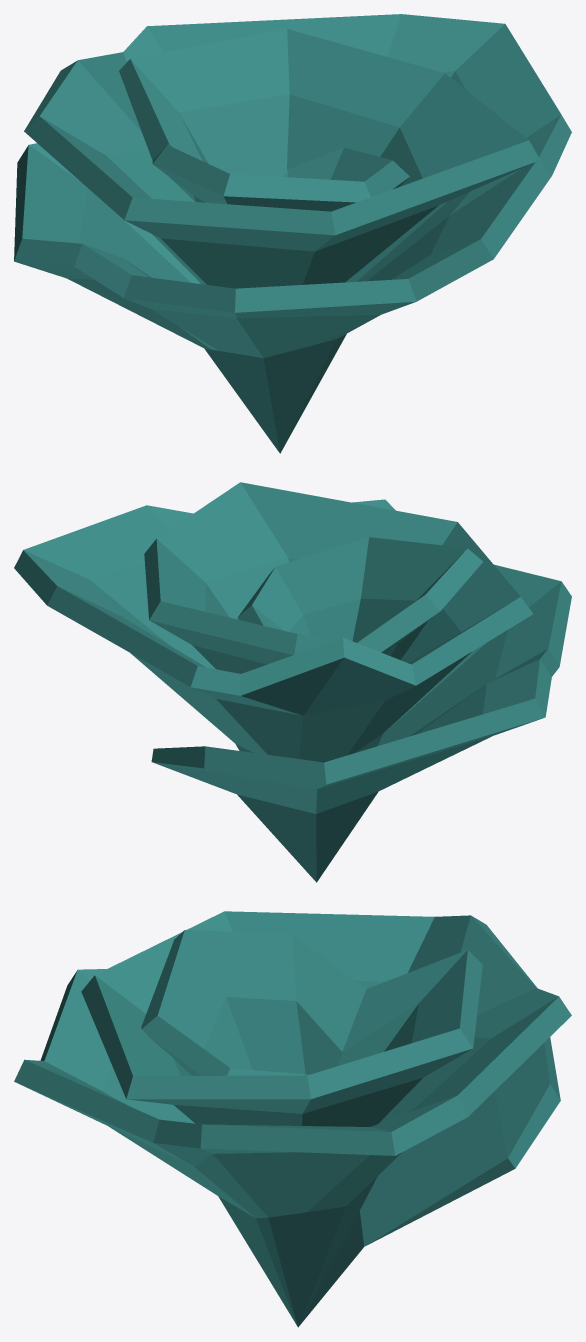
Rendered from SM_Coral_Leaf_Young_Dead_A.fbx.
3 renders of one model, top to bottom at view 1: azimuth 30°, elevation 25°; view 2: azimuth 150°, elevation 25°; view 3: azimuth 270°, elevation 25°, orthographic. The views are drawn at different scales.
Parts seen in each view (by area): view 1: coral-leaf-young-dead-a; view 2: coral-leaf-young-dead-a; view 3: coral-leaf-young-dead-a.
Part boxes in pixels (x1,y1,x2,y2): coral-leaf-young-dead-a: (14,14,571,453); coral-leaf-young-dead-a: (14,482,571,882); coral-leaf-young-dead-a: (14,911,571,1327).
Bounding box in the file's own units: 0.5809 × 0.37 × 0.5252.
